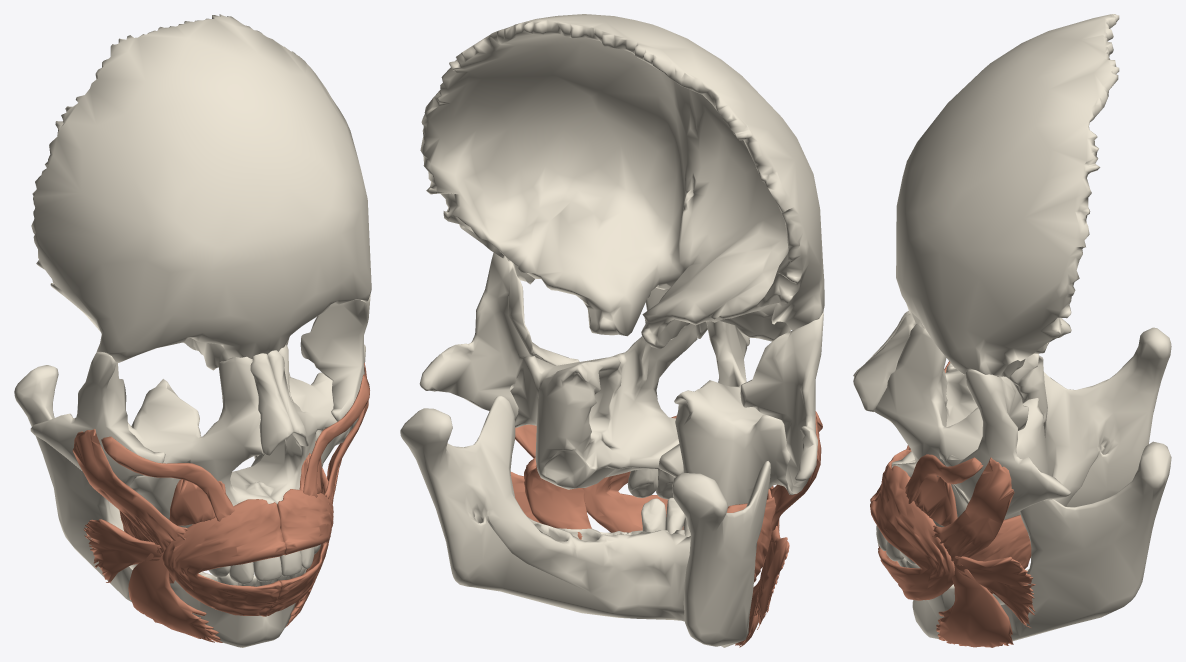
The model's file is motion-smile.glb.
3 views of the same model, side by side, from view 1: azimuth 30°, elevation 25°; view 2: azimuth 150°, elevation 25°; view 3: azimuth 270°, elevation 25° (orthographic). The views are drawn at different scales.
Visible parts, largest first — view 1: Frontal bone.001, Maxilla.r.001, Mandible.001, Orbicularis oris muscle.r.001, Zygomatic bone.r.001, Maxilla.l.001, Zygomatic bone.l.001, Orbicularis oris muscle.l.001, Zygomaticus major muscle.r.001, Depressor anguli oris.r.001, Zygomaticus minor muscle.r.001, Risorius muscle.r.001 (+6 smaller); view 2: Frontal bone.001, Mandible.001, Maxilla.l.001, Maxilla.r.001, Zygomatic bone.l.001, Zygomatic bone.r.001, Bucinator.l.001, Orbicularis oris muscle.l.001, Risorius muscle.r.001, Zygomaticus major muscle.r.001, Bucinator.r.001, Upper canine.l.001 (+1 smaller); view 3: Frontal bone.001, Mandible.001, Maxilla.l.001, Zygomatic bone.l.001, Orbicularis oris muscle.l.001, Zygomaticus major muscle.l.001, Depressor anguli oris.l.001, Maxilla.r.001, Risorius muscle.l.001, Nasal bone.l.001, Bucinator.l.001, Levator anguli oris.l.001 (+1 smaller).
Boxes of the visible parts, box(x1,y1,x2,y2) form: Frontal bone.001: box(31, 14, 371, 370); Maxilla.r.001: box(128, 356, 275, 527); Mandible.001: box(14, 338, 306, 647); Orbicularis oris muscle.r.001: box(162, 499, 285, 616); Zygomatic bone.r.001: box(30, 352, 165, 486); Maxilla.l.001: box(235, 345, 350, 504); Zygomatic bone.l.001: box(300, 294, 370, 433); Orbicularis oris muscle.l.001: box(267, 489, 333, 615); Zygomaticus major muscle.r.001: box(72, 429, 187, 554); Depressor anguli oris.r.001: box(128, 551, 222, 642); Zygomaticus minor muscle.r.001: box(101, 436, 234, 521); Risorius muscle.r.001: box(83, 519, 163, 582); Frontal bone.001: box(420, 14, 824, 349); Mandible.001: box(400, 395, 770, 647); Maxilla.l.001: box(510, 288, 697, 489); Maxilla.r.001: box(658, 321, 794, 506); Zygomatic bone.l.001: box(419, 253, 579, 419); Zygomatic bone.r.001: box(740, 311, 823, 493); Bucinator.l.001: box(524, 456, 591, 539); Orbicularis oris muscle.l.001: box(584, 415, 683, 532); Risorius muscle.r.001: box(753, 526, 789, 629); Zygomaticus major muscle.r.001: box(769, 414, 821, 530); Bucinator.r.001: box(726, 496, 775, 582); Upper canine.l.001: box(627, 468, 658, 497); Frontal bone.001: box(896, 14, 1119, 378); Mandible.001: box(912, 327, 1171, 641); Maxilla.l.001: box(874, 323, 1047, 527); Zygomatic bone.l.001: box(946, 369, 1071, 516); Orbicularis oris muscle.l.001: box(870, 464, 954, 600); Zygomaticus major muscle.l.001: box(932, 457, 1014, 565); Depressor anguli oris.l.001: box(936, 564, 1013, 647); Maxilla.r.001: box(891, 353, 1047, 464); Risorius muscle.l.001: box(953, 556, 1035, 628); Nasal bone.l.001: box(853, 313, 915, 411); Bucinator.l.001: box(969, 515, 1031, 593); Levator anguli oris.l.001: box(913, 474, 957, 526).
Size of the model in its own units: 0.1246 by 0.2029 by 0.0985.
